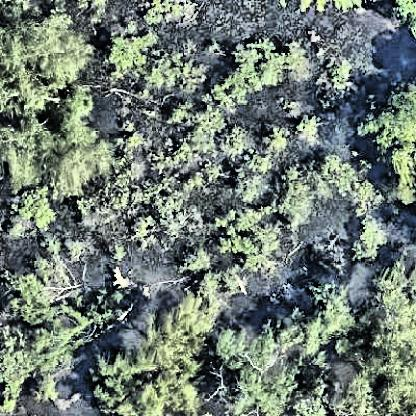tree-top: (88, 309, 219, 416), (1, 272, 114, 395), (1, 12, 99, 121), (1, 119, 119, 197), (220, 326, 289, 416), (367, 87, 416, 204), (212, 203, 281, 271), (363, 275, 415, 352), (358, 358, 416, 416), (228, 38, 286, 92), (303, 282, 354, 338), (104, 26, 160, 76), (56, 90, 101, 151), (348, 208, 385, 261), (17, 186, 57, 232)
